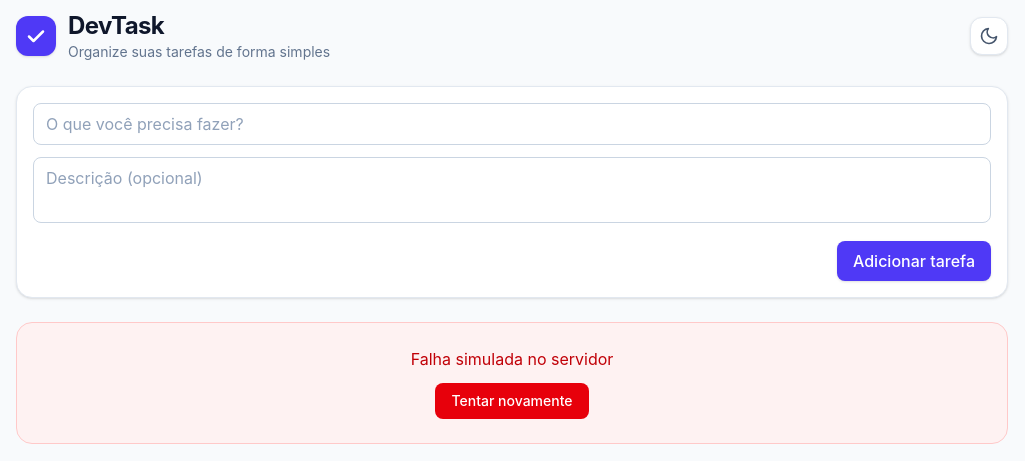
Test: App › avisa que a tarefa foi criada quando a lista ainda não carrega
expect the text "Falha simulada no servidor" is shown: met, box [411,347,613,371]
Type "Pagar aluguel" into the field named "Título da tarefa".
click(512, 124); type("Pagar aluguel")  # box [33,103,991,145]
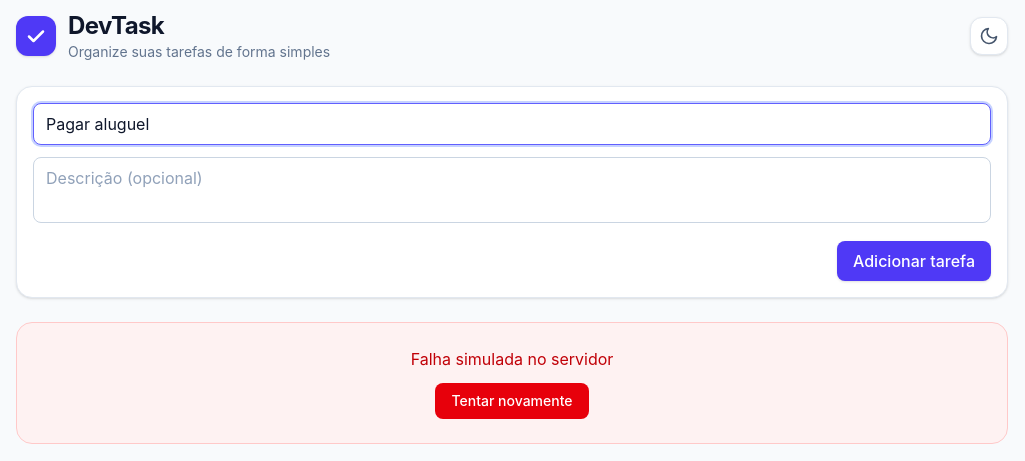
Click the button "Adicionar tarefa".
click(914, 261)  # box [837,241,991,281]
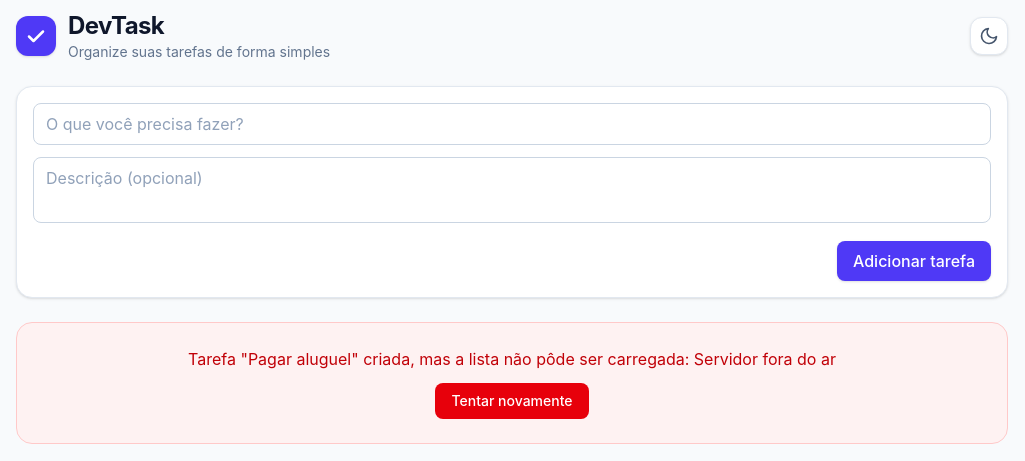
expect the text "Tarefa \"Pagar aluguel\" criada, mas a lista não pôde ser carregada" is shown: met, box [188,349,836,369]
